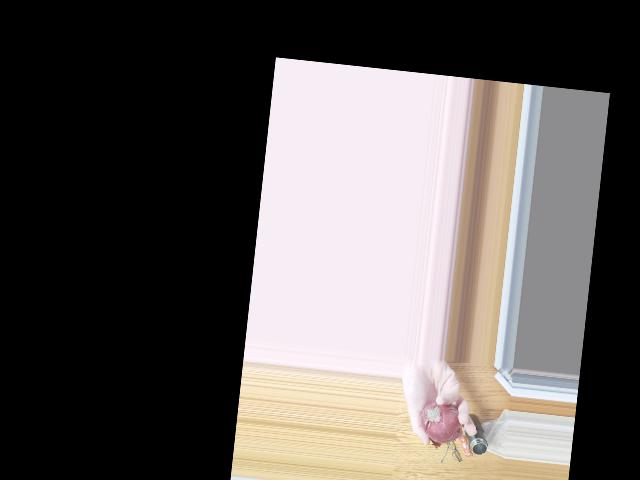onion: (417, 394, 464, 445)
